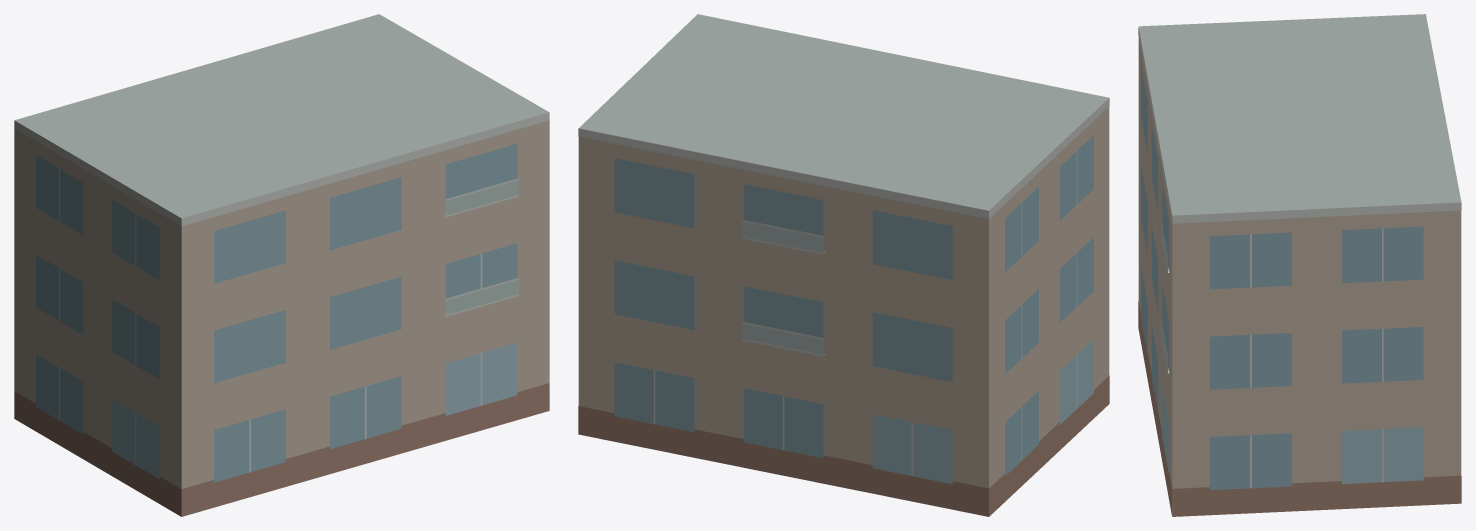
File: survey-upis-32619575.glb
3 renders of one model, left to right at view 1: azimuth 30°, elevation 25°; view 2: azimuth 150°, elevation 25°; view 3: azimuth 270°, elevation 25°, orthographic. The views are drawn at different scales.
Parts seen in each view (by area): view 1: survey-upis-32619575.tmp; view 2: survey-upis-32619575.tmp; view 3: survey-upis-32619575.tmp.
Boxes of the visible parts, x1,y1,x2,y2 form: survey-upis-32619575.tmp: [14, 14, 549, 516]; survey-upis-32619575.tmp: [578, 14, 1109, 516]; survey-upis-32619575.tmp: [1138, 14, 1461, 516].
Size of the model in its own units: 13.15 by 9.15 by 8.91.
